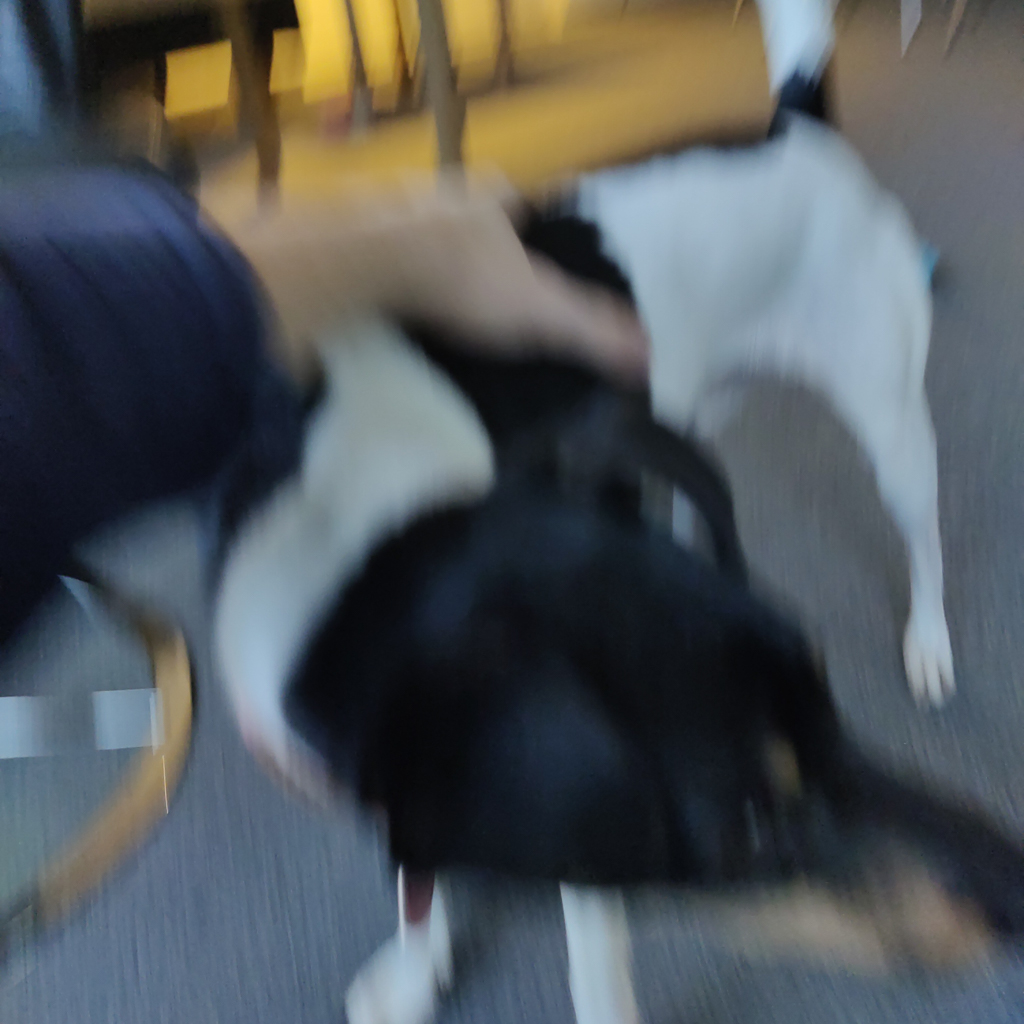Dog: (174, 0, 1024, 1024)
Humanoid: (0, 79, 673, 708)
